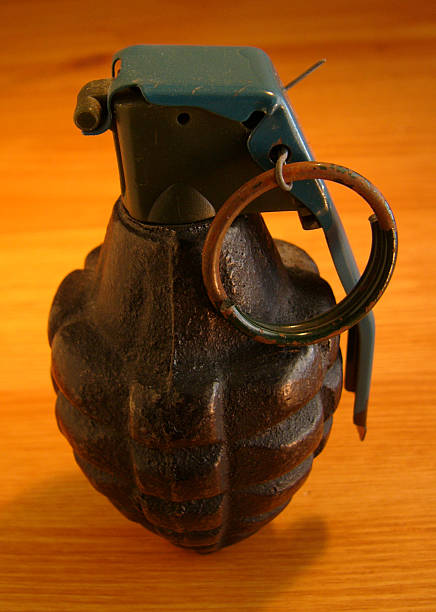e1: (46, 47, 398, 548)
